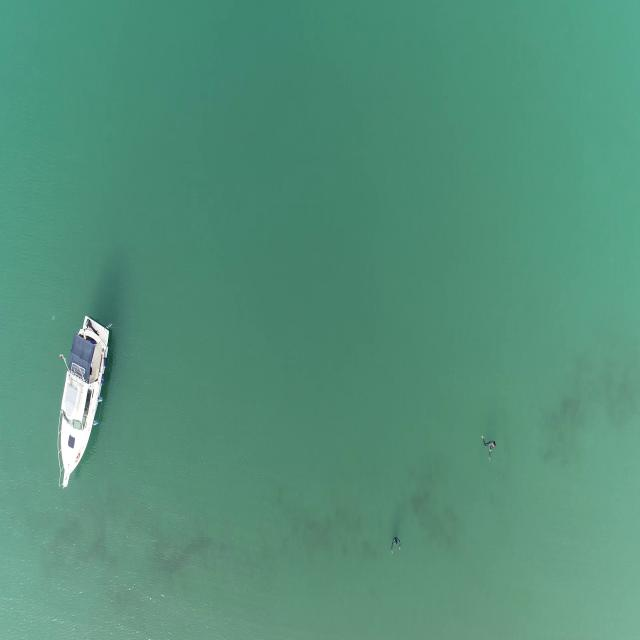boat: (52, 315, 113, 489)
person: (481, 435, 495, 458), (389, 535, 402, 557)
